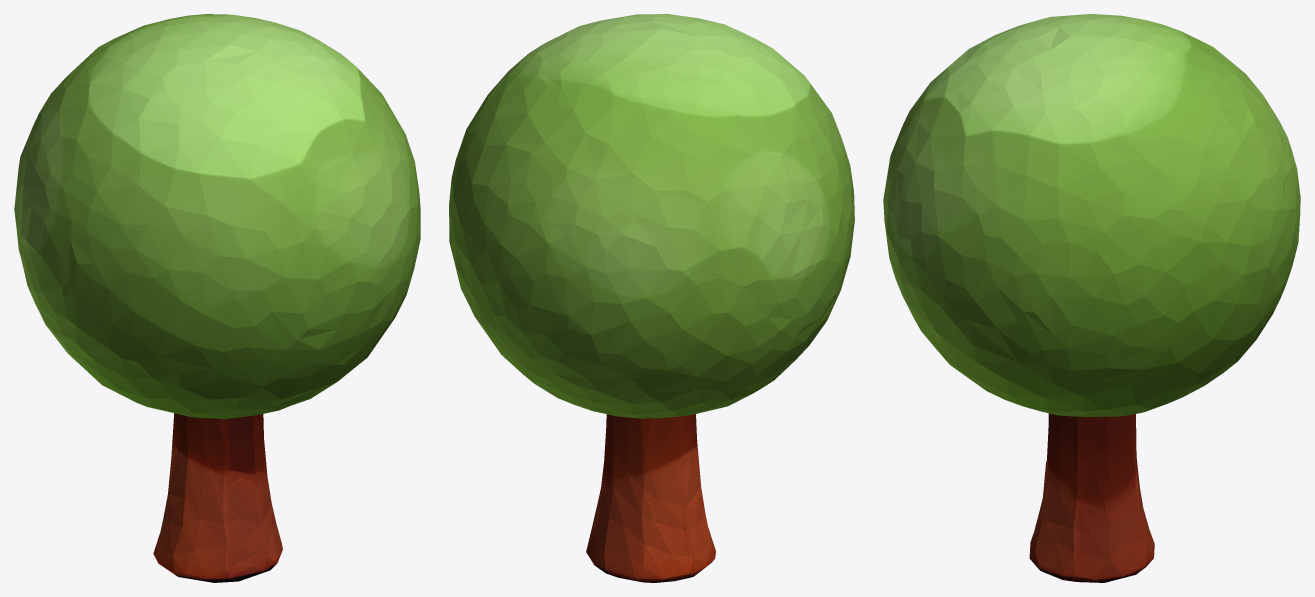
File: tree_6.glb
3 views of the same model, side by side, from view 1: azimuth 30°, elevation 25°; view 2: azimuth 150°, elevation 25°; view 3: azimuth 270°, elevation 25° (orthographic).
Parts seen in each view (by area): view 1: tmpz3vtymvs.ply; view 2: tmpz3vtymvs.ply; view 3: tmpz3vtymvs.ply.
Boxes of the visible parts, x1,y1,x2,y2 form: tmpz3vtymvs.ply: (14,14,420,582); tmpz3vtymvs.ply: (449,14,854,582); tmpz3vtymvs.ply: (883,14,1300,582).
Bounding box in the file's own units: 1.38 × 1.96 × 1.42.
1 material, 1 textured.
